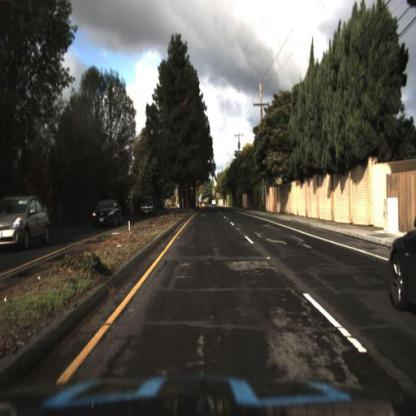car: (2, 196, 55, 253), (390, 212, 416, 316), (91, 198, 126, 232), (95, 199, 124, 226), (140, 196, 157, 217)
